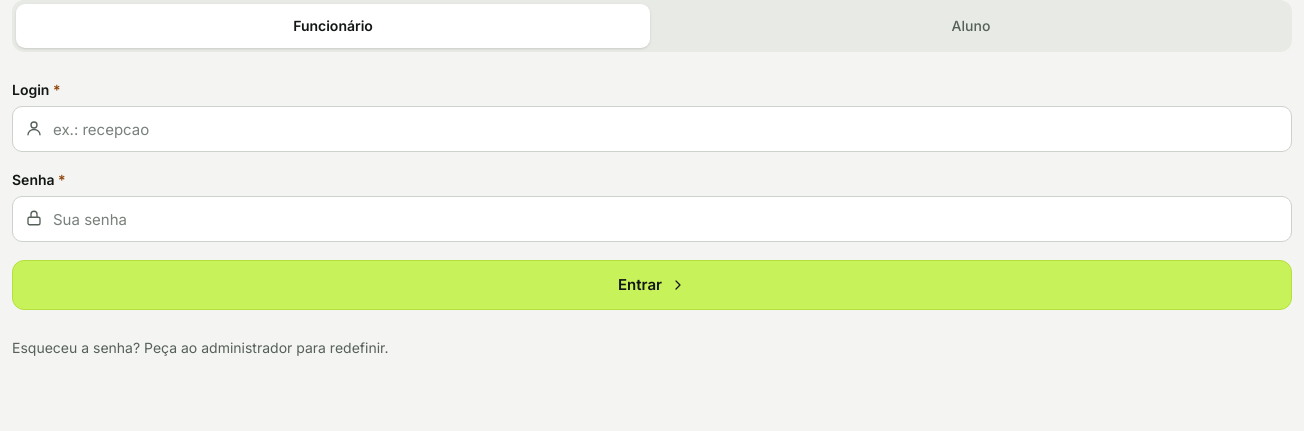
Test: FormLogin › aplica a máscara de CPF enquanto digita
Click the tab "Aluno": (971, 26) 654,4 -> 1288,48
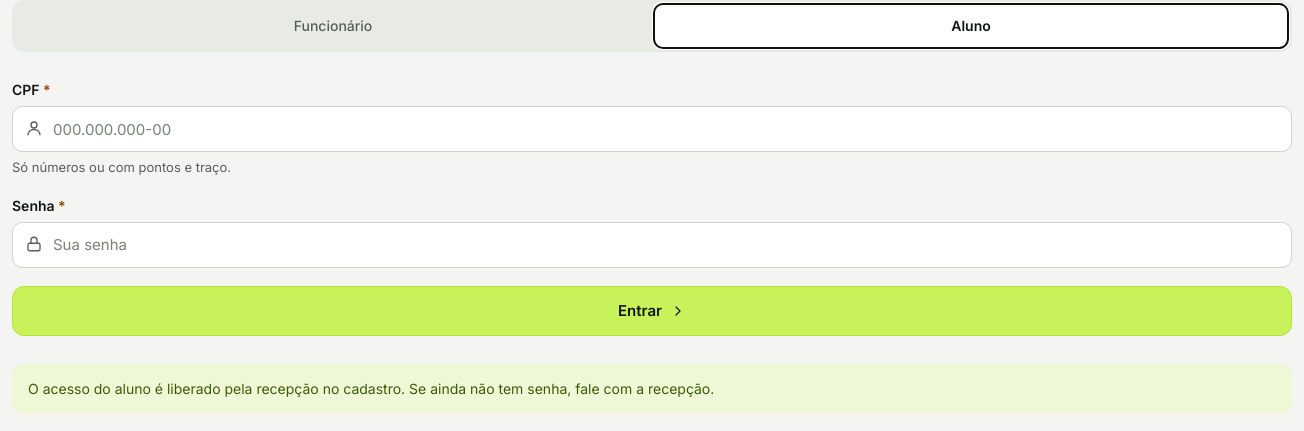
In the field labelled "CPF": (652, 129) 12,106 -> 1292,152, type "52998224725"
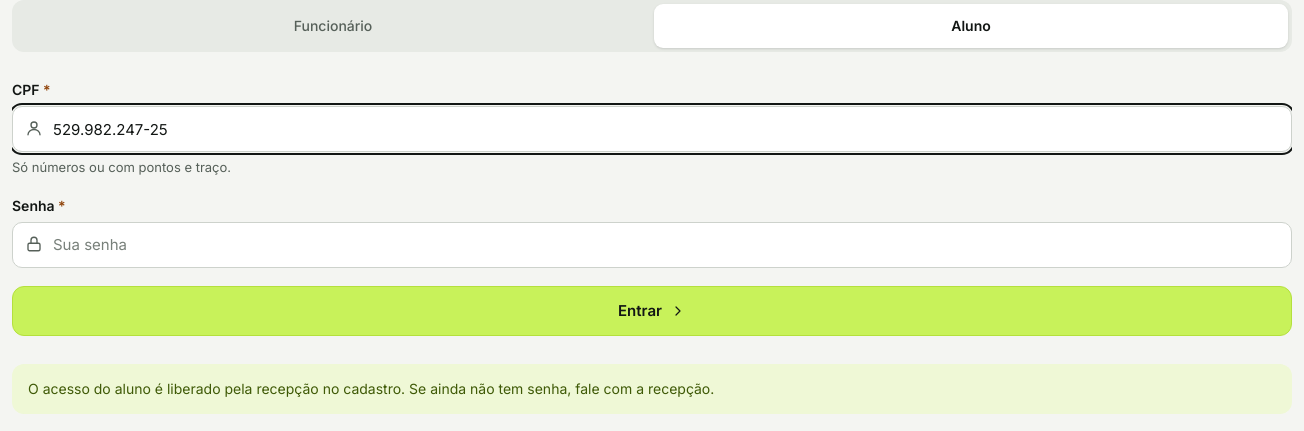
Result: the field labelled "CPF" holds "529.982.247-25" at 12,106 -> 1292,152
